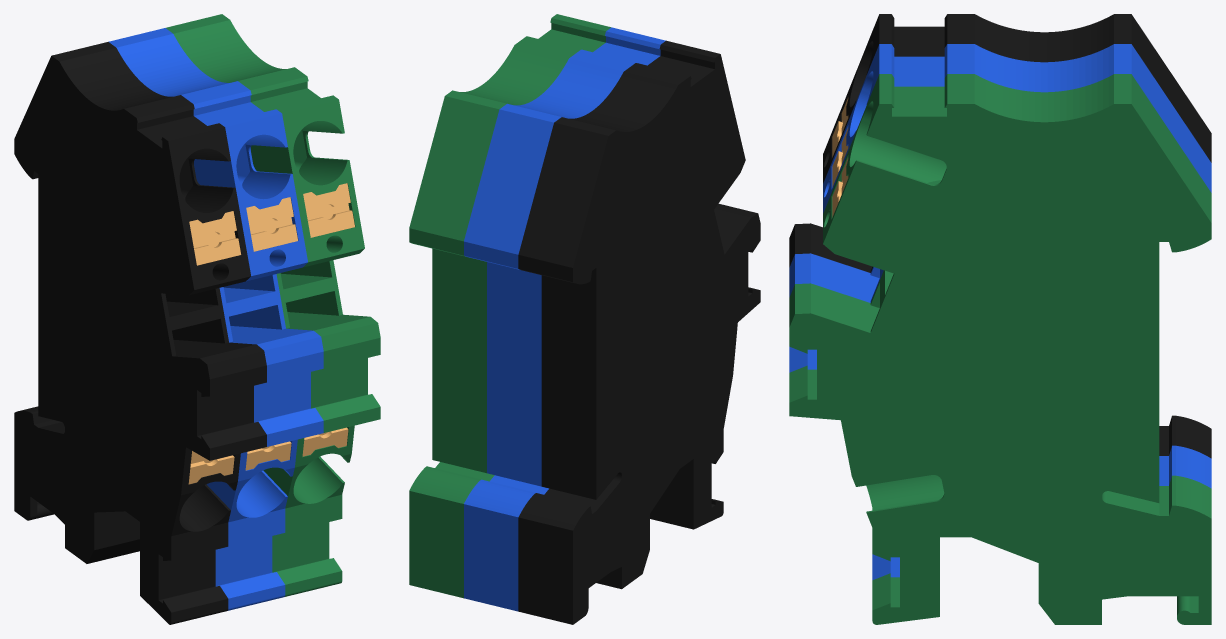
Rendered from conjunto-bornes-monofasico.glb.
The picture shows the model from 3 angles, left to right: view 1: azimuth 30°, elevation 25°; view 2: azimuth 150°, elevation 25°; view 3: azimuth 270°, elevation 25°; orthographic projection. The views are drawn at different scales.
Visible parts, largest first — view 1: Node1 (×3), Node3 (×3); view 2: Node1 (×3); view 3: Node1 (×3).
Part boxes in pixels (left/top/right/bottom): Node1 (×3): left=14, top=14, right=380, bottom=624; Node3 (×3): left=188, top=183, right=354, bottom=484; Node1 (×3): left=409, top=14, right=760, bottom=624; Node1 (×3): left=789, top=14, right=1211, bottom=624.
Bounding box in the file's own units: 24.45 × 66.01 × 48.5.
